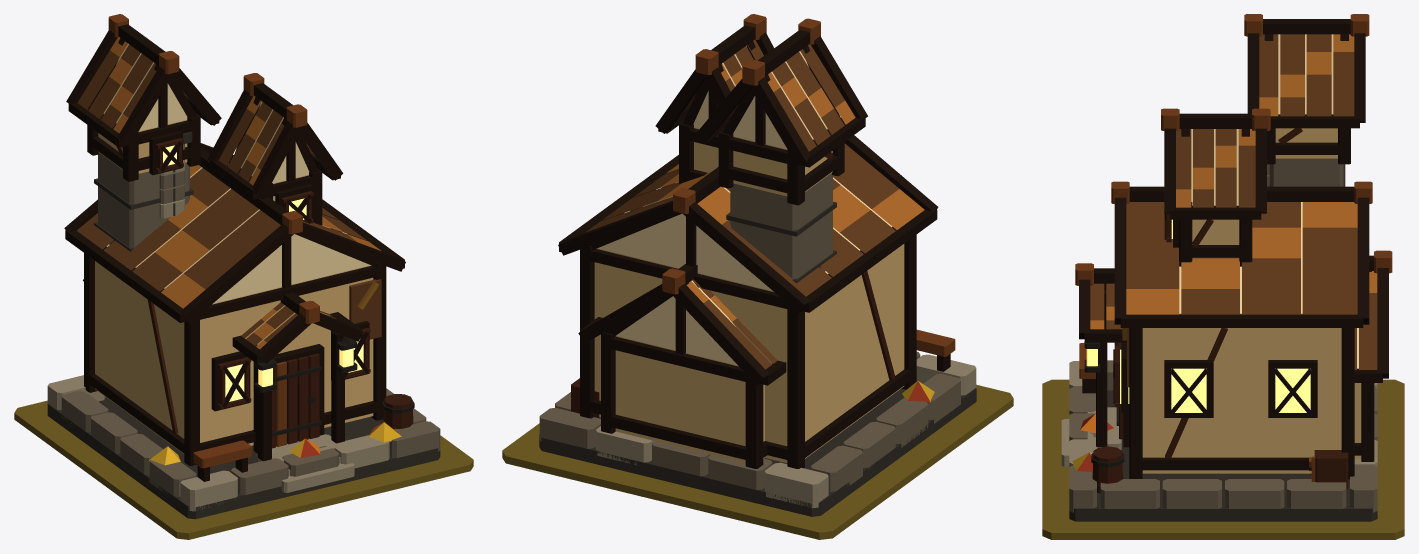
File: manor_hall_t5.glb
3 renders of one model, left to right at view 1: azimuth 30°, elevation 25°; view 2: azimuth 150°, elevation 25°; view 3: azimuth 270°, elevation 25°, orthographic. The views are drawn at different scales.
Visible parts, largest first — view 1: MMR | hall | T05 Architecture.001, MMR | hall | Tier 05 Ground.001, MMR | hall | T05 Banner Flag 1.001, MMR | hall | T05 Autumn Dressing.001; view 2: MMR | hall | T05 Architecture.001, MMR | hall | Tier 05 Ground.001; view 3: MMR | hall | T05 Architecture.001, MMR | hall | Tier 05 Ground.001, MMR | hall | T05 Autumn Dressing.001.
Part boxes in pixels (box(x1,y1,x2,y2)): MMR | hall | T05 Architecture.001: box(47, 14, 440, 519); MMR | hall | Tier 05 Ground.001: box(14, 400, 473, 539); MMR | hall | T05 Banner Flag 1.001: box(349, 279, 381, 339); MMR | hall | T05 Autumn Dressing.001: box(149, 422, 401, 465); MMR | hall | T05 Architecture.001: box(539, 14, 976, 516); MMR | hall | Tier 05 Ground.001: box(502, 384, 1013, 539); MMR | hall | T05 Architecture.001: box(1061, 14, 1392, 521); MMR | hall | Tier 05 Ground.001: box(1042, 379, 1404, 539); MMR | hall | T05 Autumn Dressing.001: box(1072, 413, 1113, 471).
Size of the model in its own units: 2.35 by 2.96 by 2.35.
Materials: 2 (1 with a texture image).
